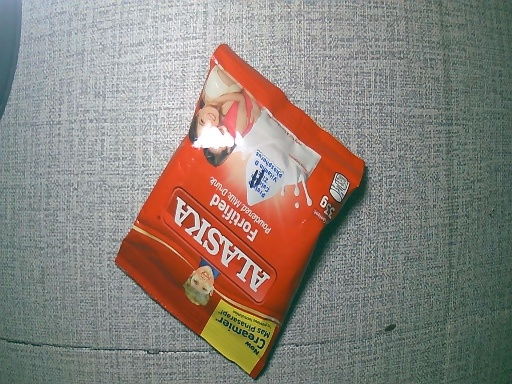plastic: (111, 42, 367, 379)
